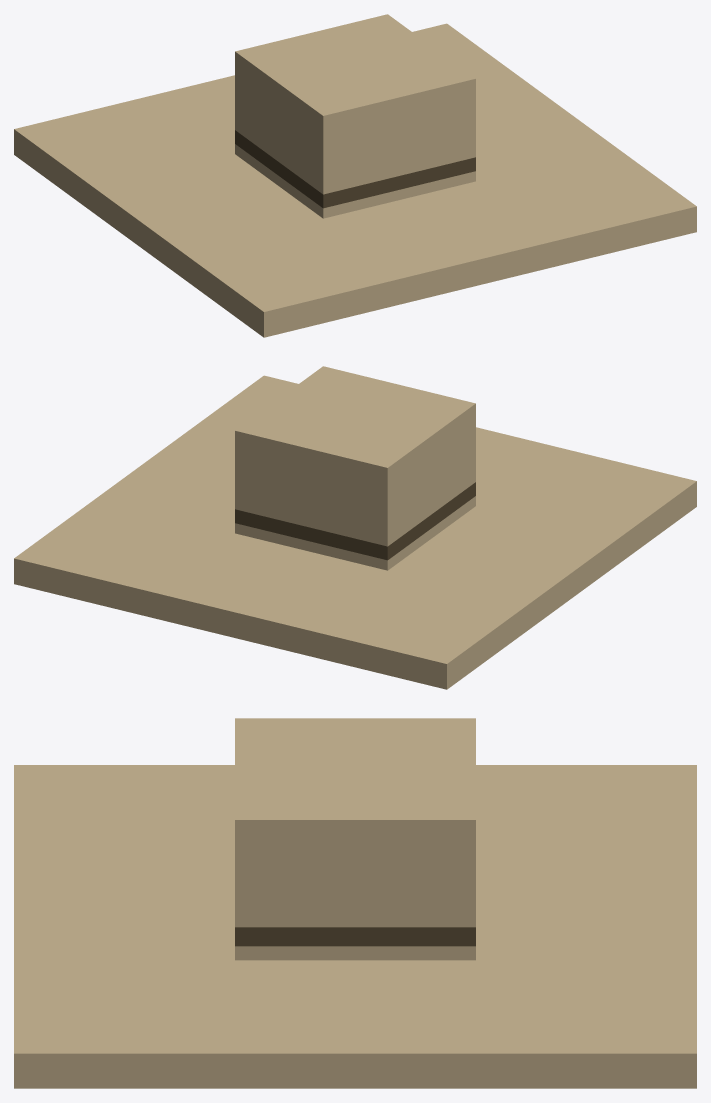
The model's file is fermerHat.fbx.
3 renders of one model, top to bottom at view 1: azimuth 30°, elevation 25°; view 2: azimuth 150°, elevation 25°; view 3: azimuth 270°, elevation 25°, orthographic. The views are drawn at different scales.
Visible parts, largest first — view 1: Cube.018; view 2: Cube.018; view 3: Cube.018.
Boxes of the visible parts, left/top/right/bottom form: Cube.018: left=14, top=14, right=696, bottom=337; Cube.018: left=14, top=366, right=696, bottom=689; Cube.018: left=14, top=718, right=696, bottom=1088.
Bounding box in the file's own units: 241 × 68.25 × 241.
